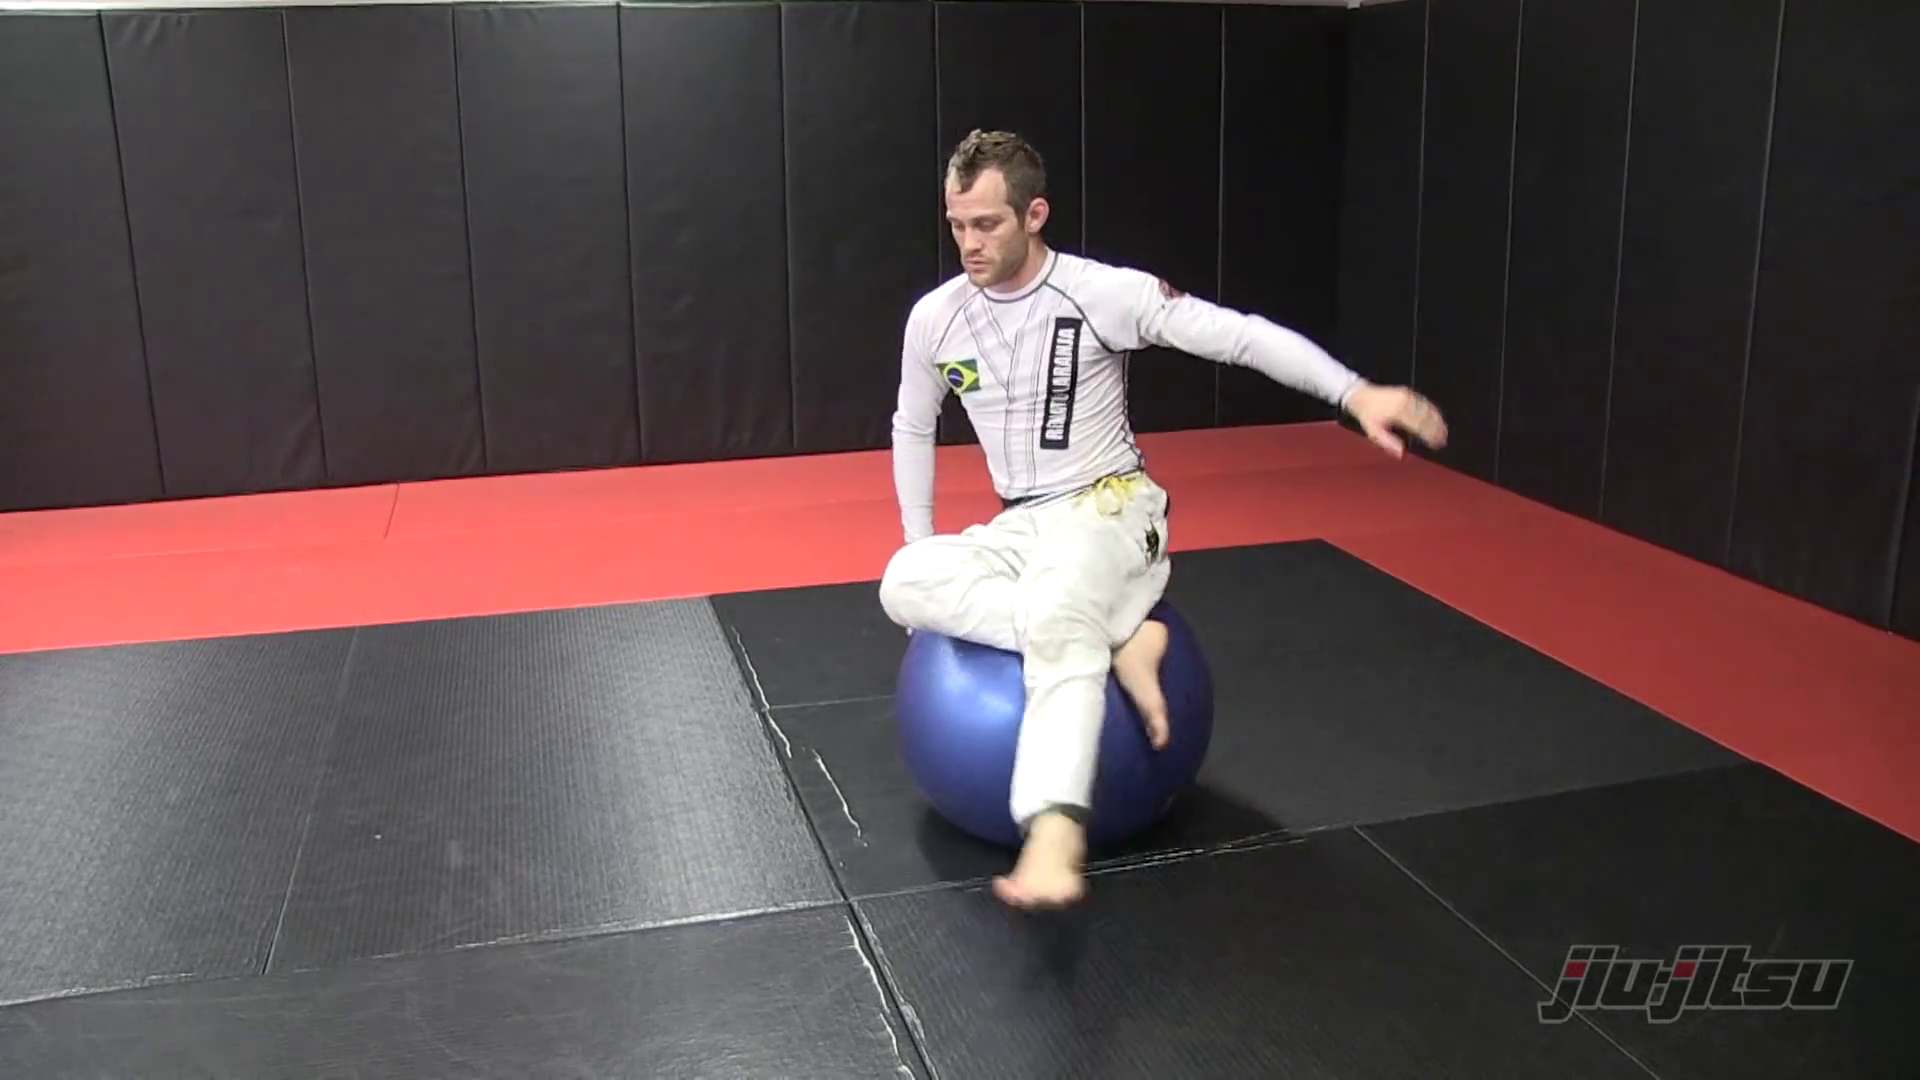yogaball: (878, 587, 1224, 865)
